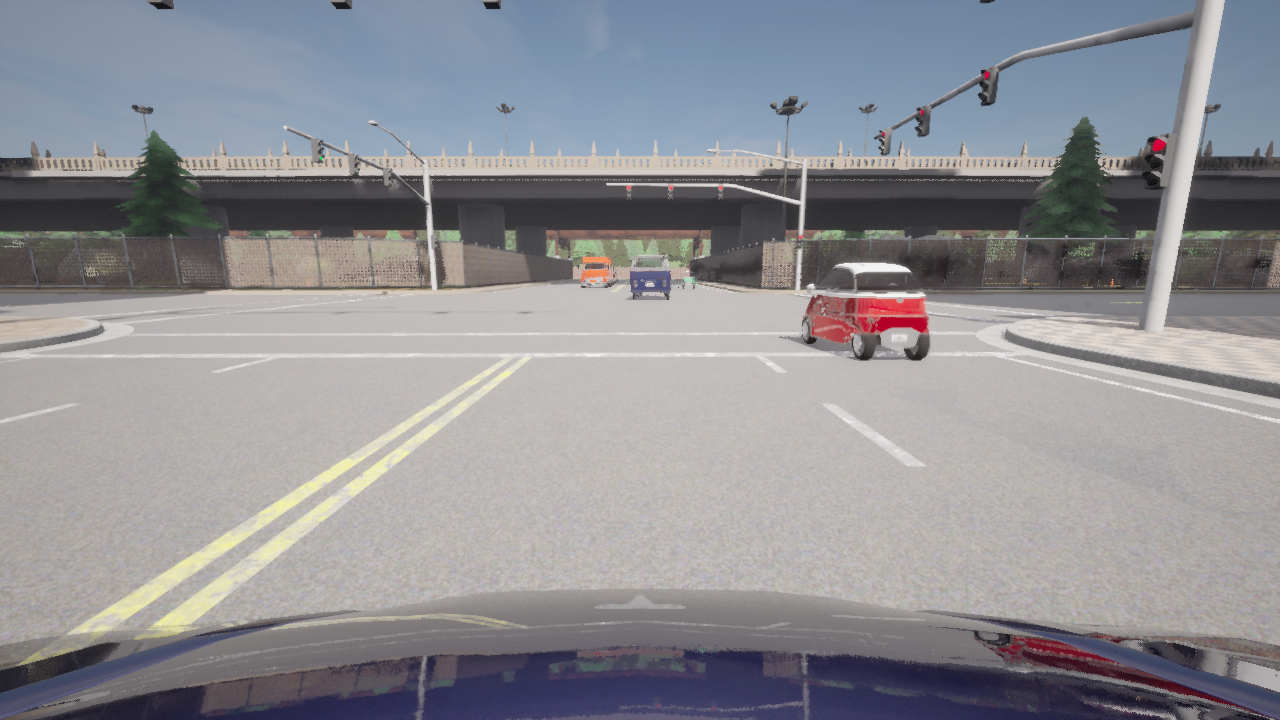cyclist: (0, 588, 1279, 719), (801, 262, 930, 360), (629, 254, 673, 300), (576, 256, 612, 288), (677, 271, 695, 289), (611, 265, 615, 284)
pedestrian: (365, 154, 368, 166)
